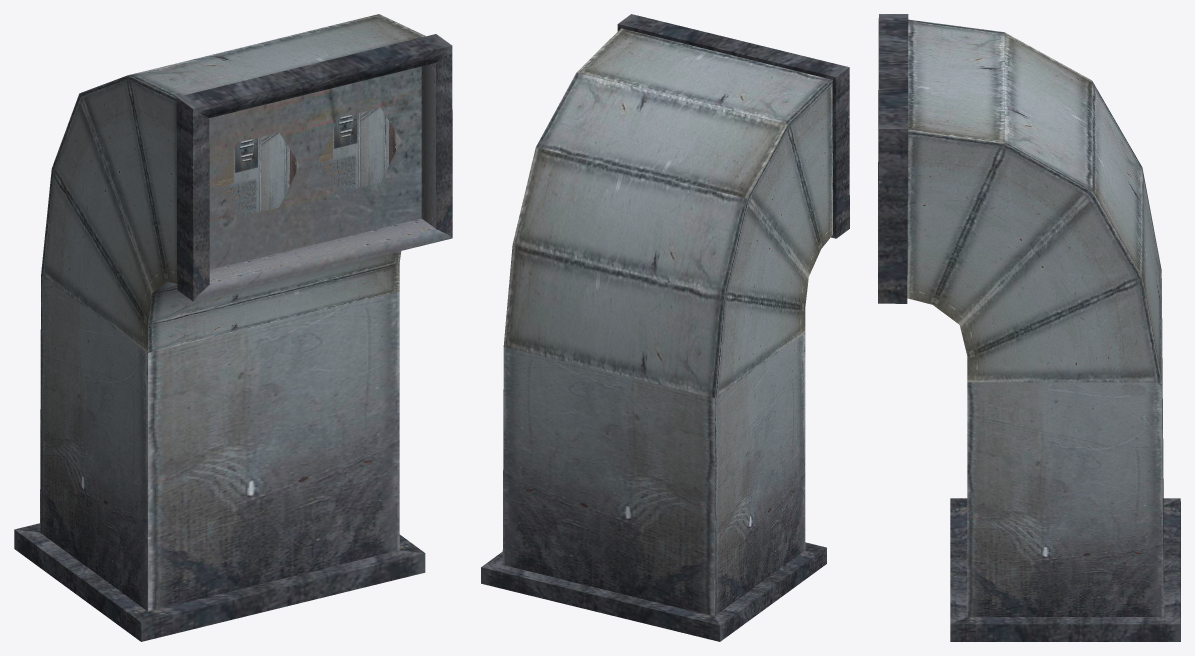
File: Fan2.fbx
3 renders of one model, left to right at view 1: azimuth 30°, elevation 25°; view 2: azimuth 150°, elevation 25°; view 3: azimuth 270°, elevation 25°, orthographic. The views are drawn at different scales.
Parts seen in each view (by area): view 1: Fan2; view 2: Fan2; view 3: Fan2.
Boxes of the visible parts, box(x1,y1,x2,y2) form: Fan2: box(14, 14, 452, 641); Fan2: box(481, 14, 849, 641); Fan2: box(878, 14, 1180, 641).
Bounding box in the file's own units: 96.77 × 182 × 98.36.
